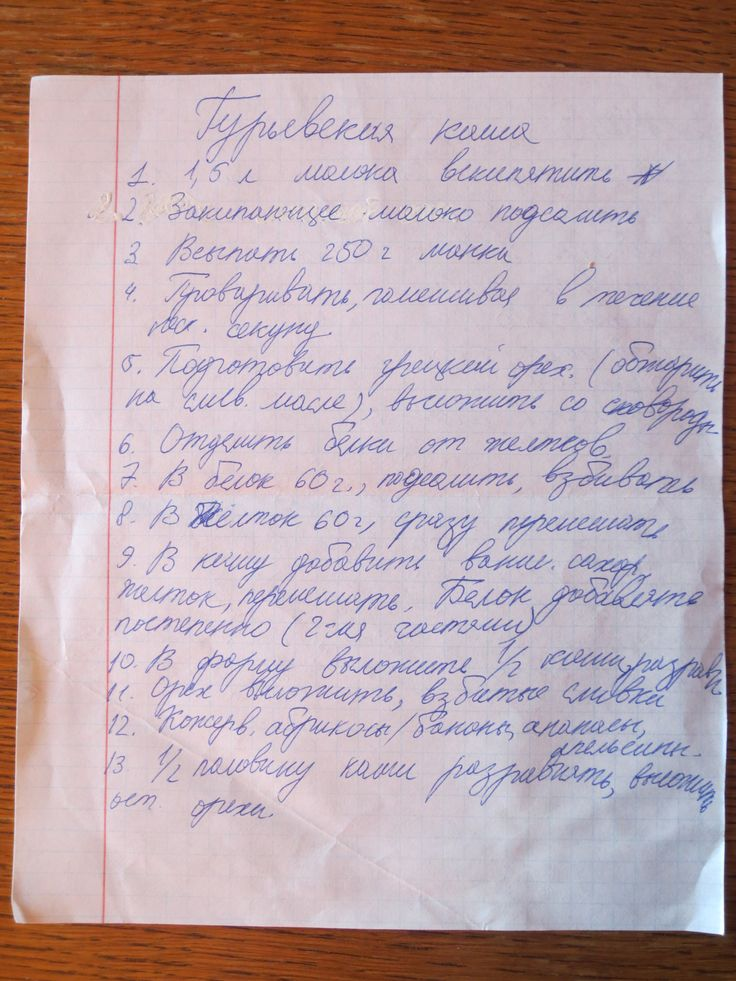page: (31, 77, 712, 914)
